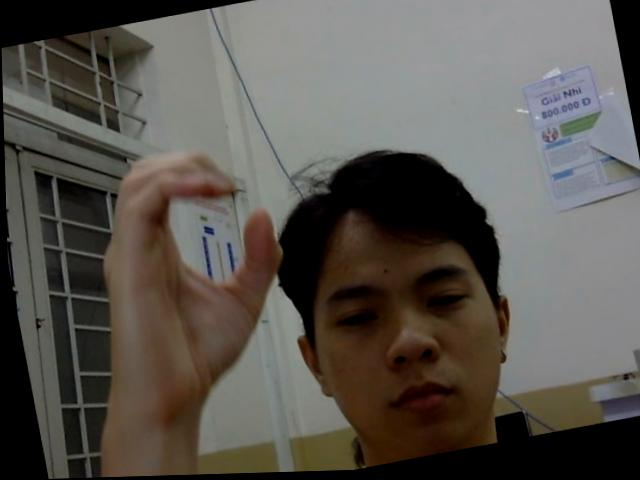C: (73, 134, 305, 426)
